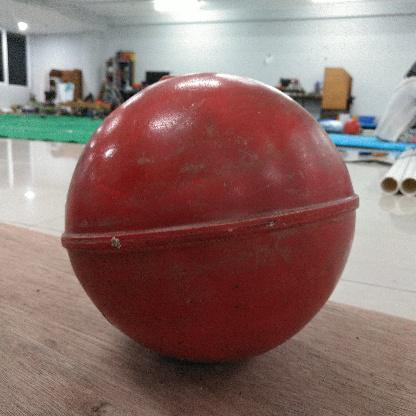red_buoy: (59, 65, 362, 374)
